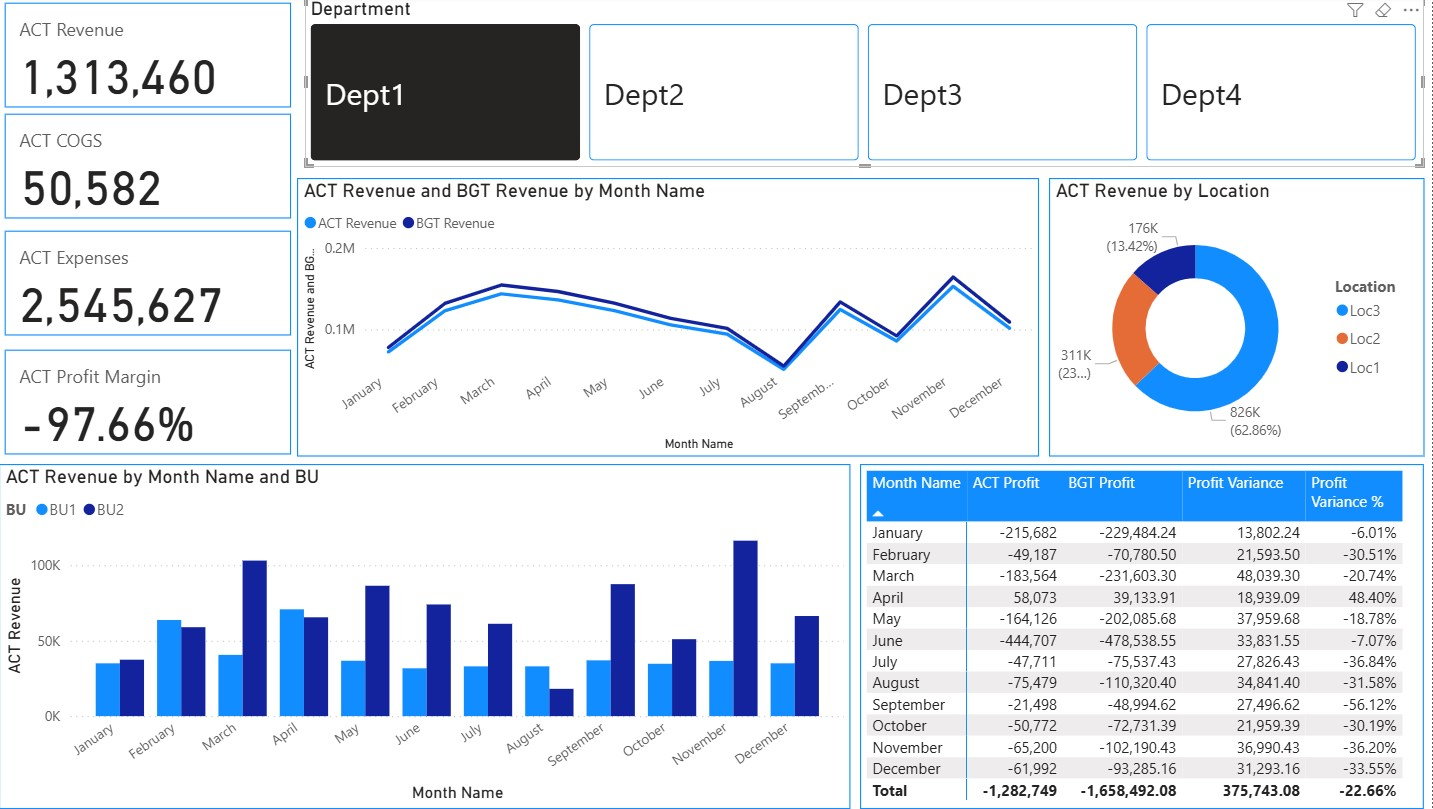

Layout of this report page (visuals, bound fields, positions):
{"tool":"powerbi","page":{"name":"Page 1","canvas":[1280,720],"ordinal":0},"visuals":[{"type":"cardVisual","fields":{"Data":["Actual Data.Revenue"]},"box":[9.8,0,264.2,103.7],"z":0},{"type":"cardVisual","fields":{"Data":["Actual Data.COGS"]},"box":[9.8,98.4,264.2,103.7],"z":1000},{"type":"cardVisual","fields":{"Data":["Actual Data.Expenses"]},"box":[9.8,202.2,264.2,103.7],"z":2000},{"type":"cardVisual","fields":{"Data":["Actual Data.Gross Profit Margin"]},"box":[9.8,307.7,264.2,103.7],"z":3000},{"type":"lineChart","fields":{"Category":["Date Table.Month Name"],"Y":["Actual Data.ACT Revenue","Budget Data.BGT Revenue"]},"box":[274,160.5,657.9,247.4],"z":4000},{"type":"donutChart","fields":{"Y":["Actual Data.ACT Revenue"],"Category":["Actual Data.Location"]},"box":[940.8,160.5,332.5,247.4],"z":5000},{"type":"clusteredColumnChart","fields":{"Category":["Date Table.Month Name"],"Series":["Actual Data.BU"],"Y":["Actual Data.ACT Revenue"]},"box":[9.8,414.1,755.5,305.9],"z":6000},{"type":"pivotTable","fields":{"Rows":["Date Table.Month Name"],"Values":["Actual Data.ACT Profit","Budget Data.BGT Profit","Actual Data.Profit Variance","Actual Data.Profit Variance %"]},"box":[773.2,414.1,500.1,305.9],"z":7000},{"type":"advancedSlicerVisual","fields":{"Values":["Budget Data.Department"]},"box":[281.1,0,992.2,150.7],"z":8000}]}

Visuals, with their boxes in screenshot pixels (x1, y1, x2, y2), scaled from the page's 1280x720 canvas onto the 1433x809 screenshot:
cardVisual - Actual Data.Revenue: 11:0:307:117
cardVisual - Actual Data.COGS: 11:111:307:227
cardVisual - Actual Data.Expenses: 11:227:307:344
cardVisual - Actual Data.Gross Profit Margin: 11:346:307:462
lineChart - Date Table.Month Name x Actual Data.ACT Revenue: 307:180:1043:458
donutChart - Actual Data.ACT Revenue x Actual Data.Location: 1053:180:1425:458
clusteredColumnChart - Date Table.Month Name x Actual Data.BU: 11:465:857:808
pivotTable - Date Table.Month Name x Actual Data.ACT Profit: 866:465:1425:808
advancedSlicerVisual - Budget Data.Department: 315:0:1425:169
